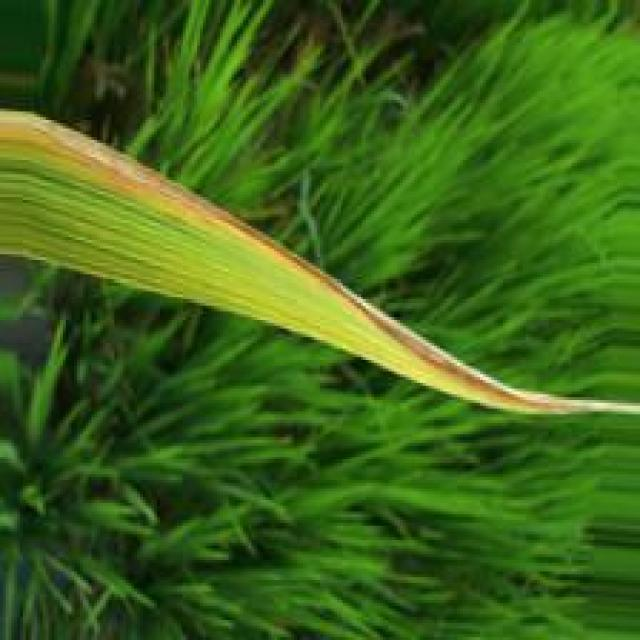Leaf_Scald: (6, 111, 624, 412)
